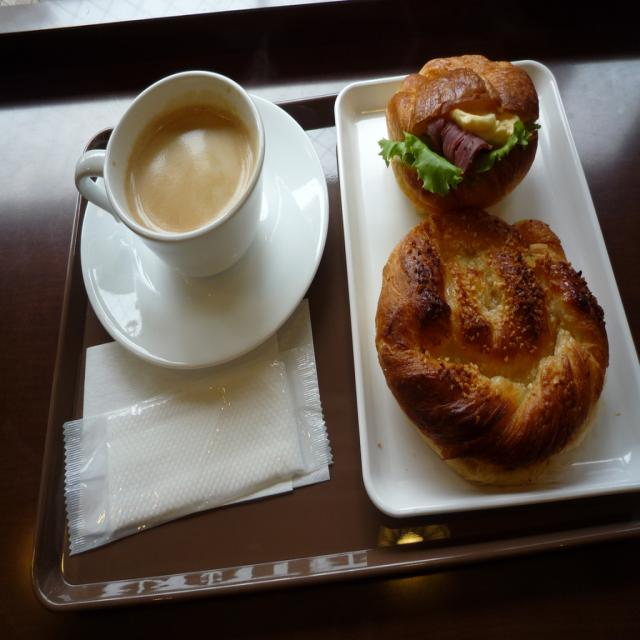Coffee: (124, 105, 254, 233)
Tea: (125, 104, 253, 232)
